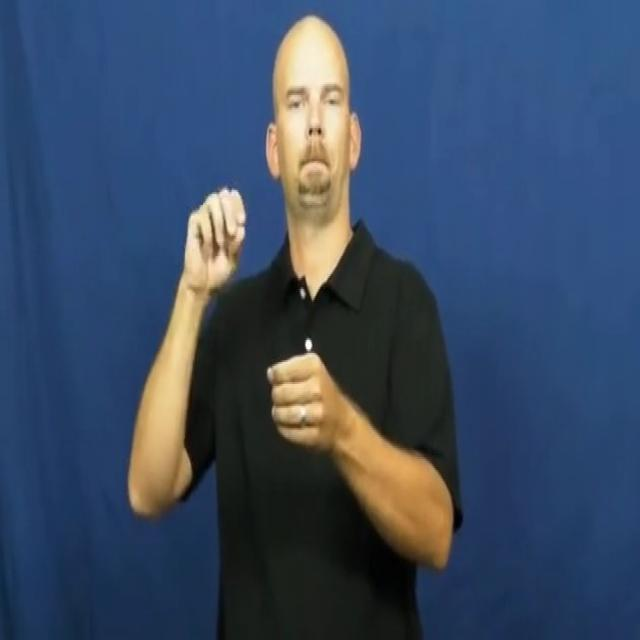soda: (175, 180, 352, 458)
